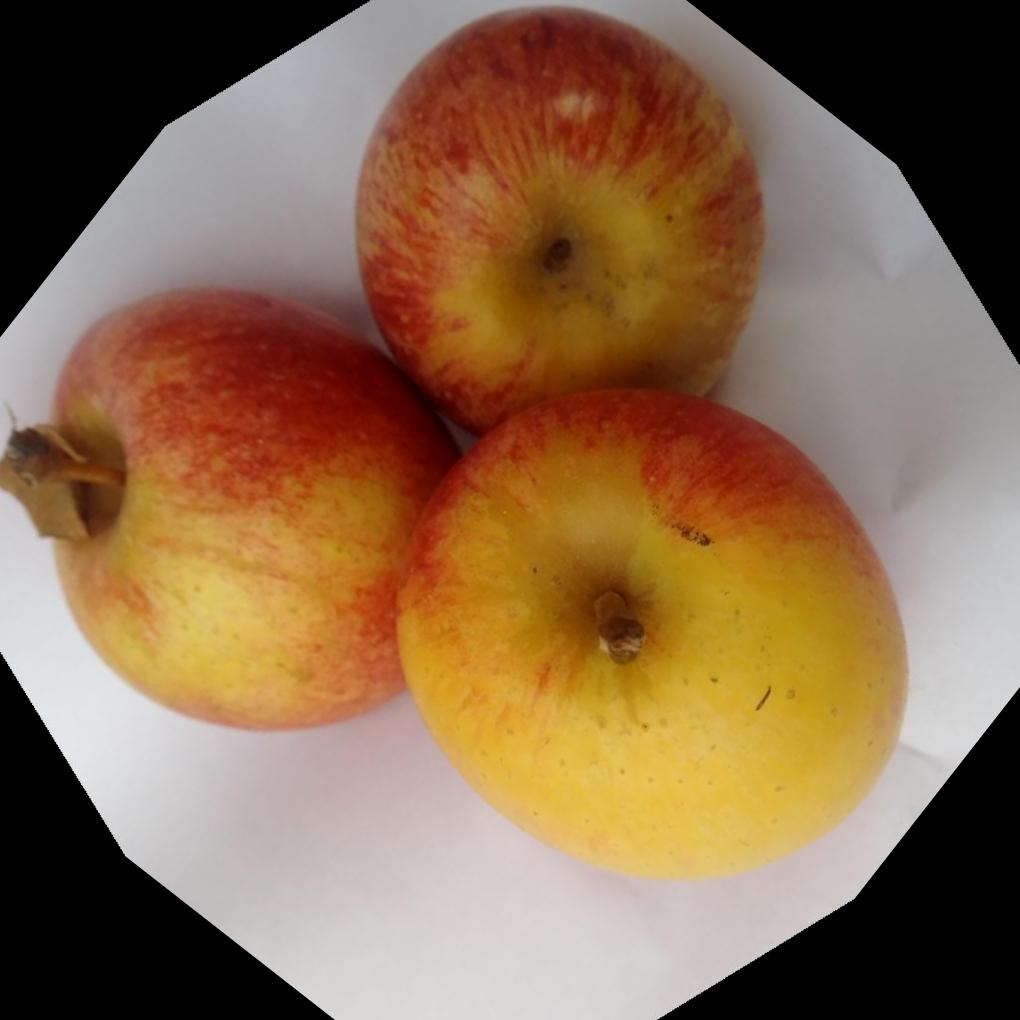FreshGuava: (0, 5, 907, 880)
